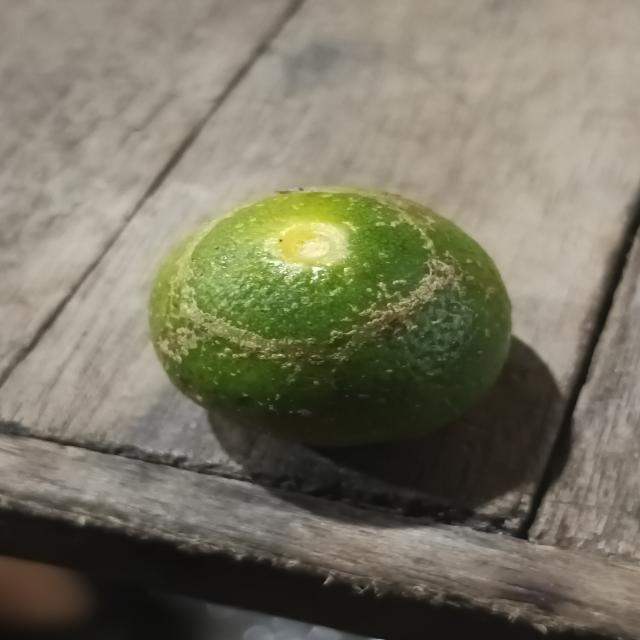thrips: (154, 184, 514, 441)
